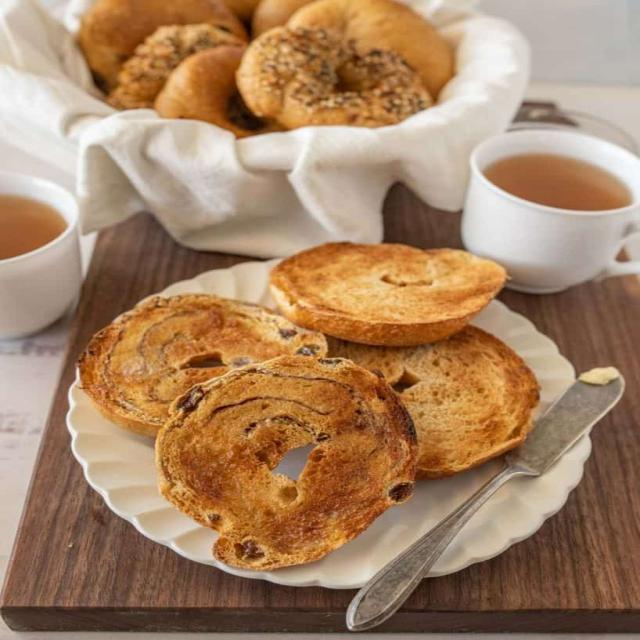Bagel: (155, 356, 418, 569), (78, 294, 327, 436), (327, 325, 540, 478), (269, 242, 507, 346), (236, 26, 433, 129), (286, 0, 454, 99), (155, 45, 255, 137)
